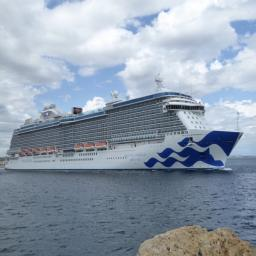cruises: (3, 73, 246, 175)
